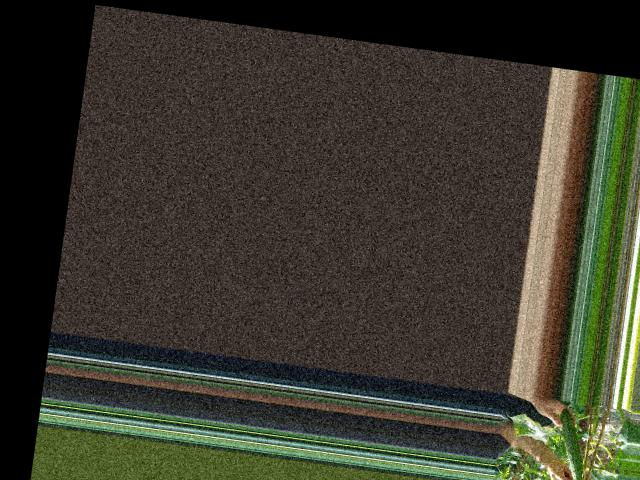cucumber: (550, 407, 591, 480)
